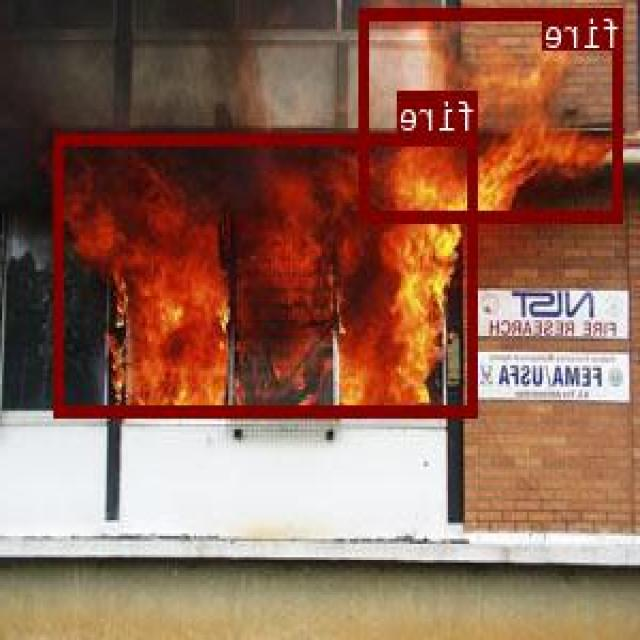fire: (57, 132, 480, 415), (362, 6, 624, 221)
